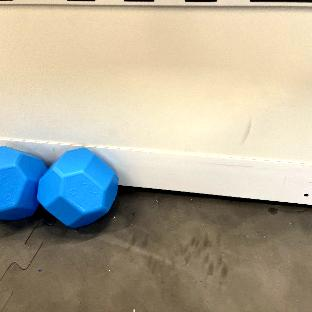V5_BLUE: (37, 148, 118, 227), (0, 146, 46, 220)
